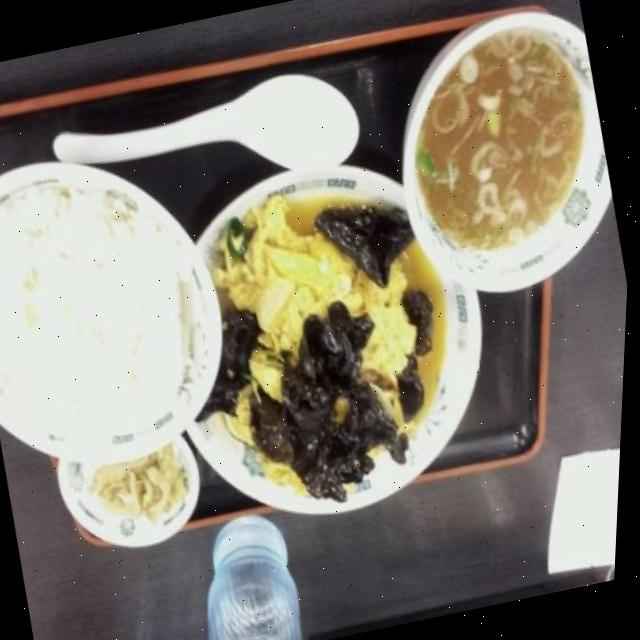汤锅炖物: (368, 0, 635, 305)
米饭主食: (0, 129, 256, 480)
